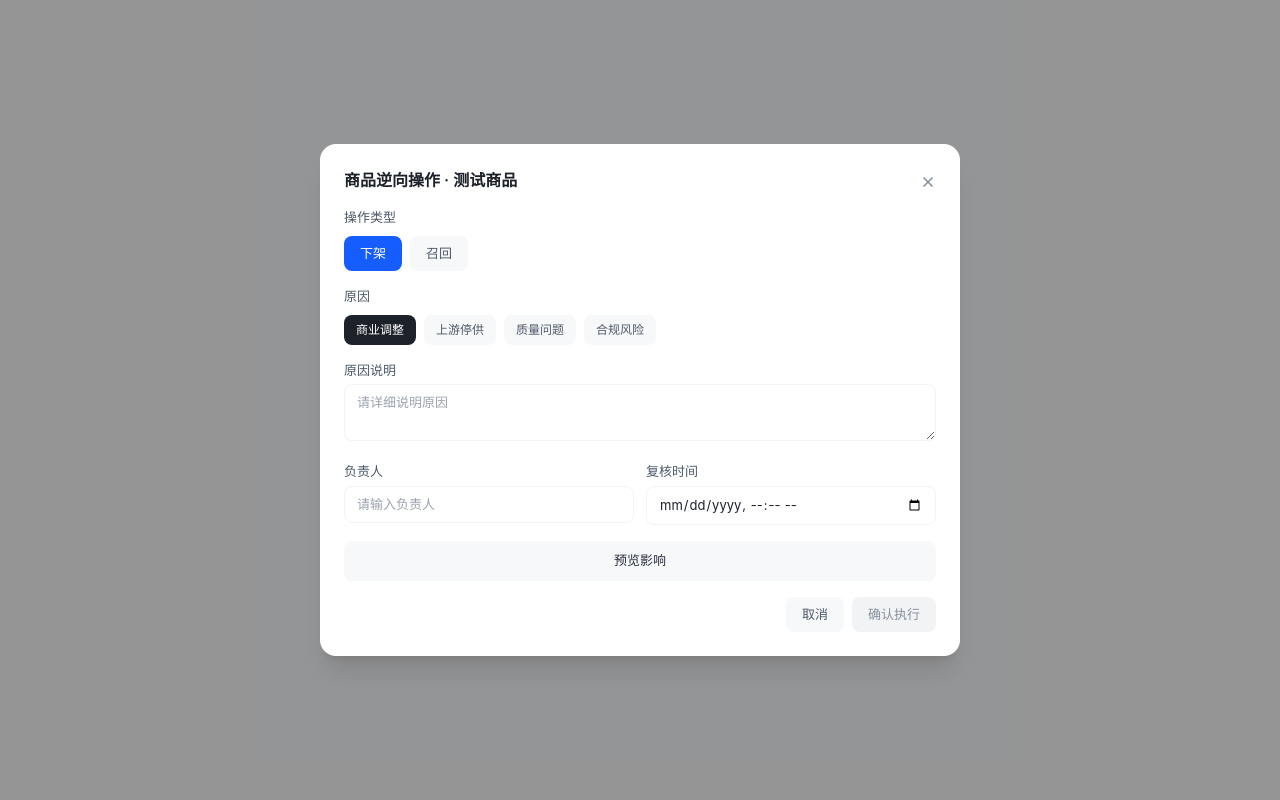
Test case: ProductReverseActionModal › blank owner blocks preview and shows validation message
The image size is (1280, 800).
Fill reason detail but leave owner blank
Type "Test reason" into the text box with test id "reason-detail-input" at (640, 412), box [344,384,936,441]
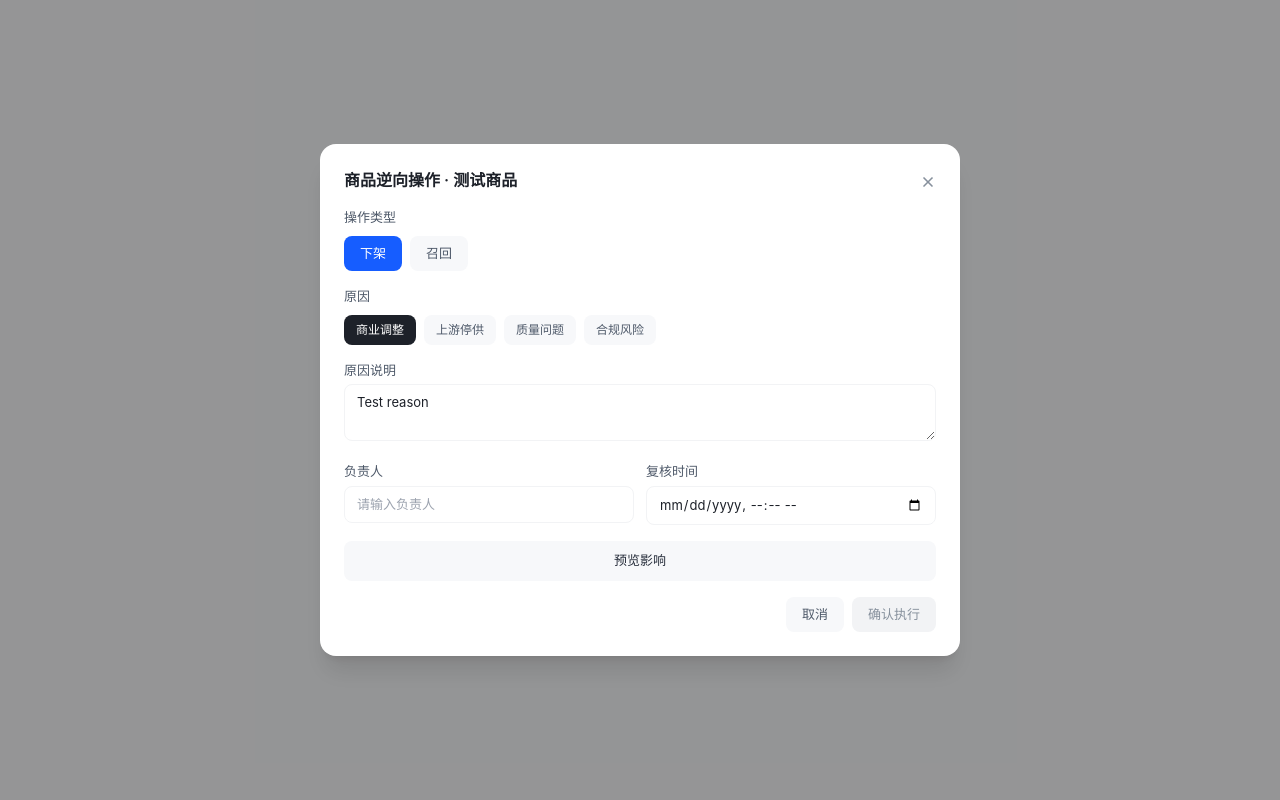
Type "2026-07-18T10:00" into the field with test id "review-at-input" at (791, 505), box [646,486,936,525]
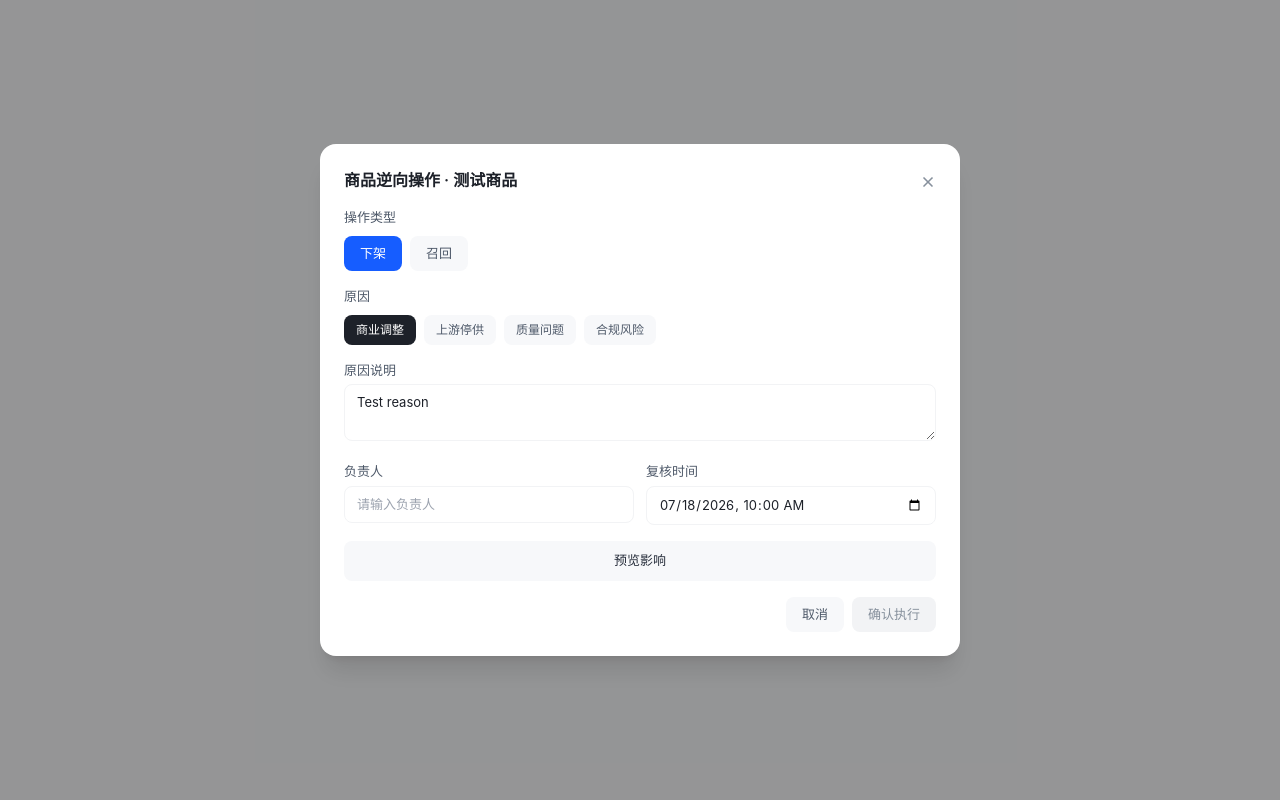
Click the button with test id "preview-btn" at (640, 561), box [344,541,936,580]
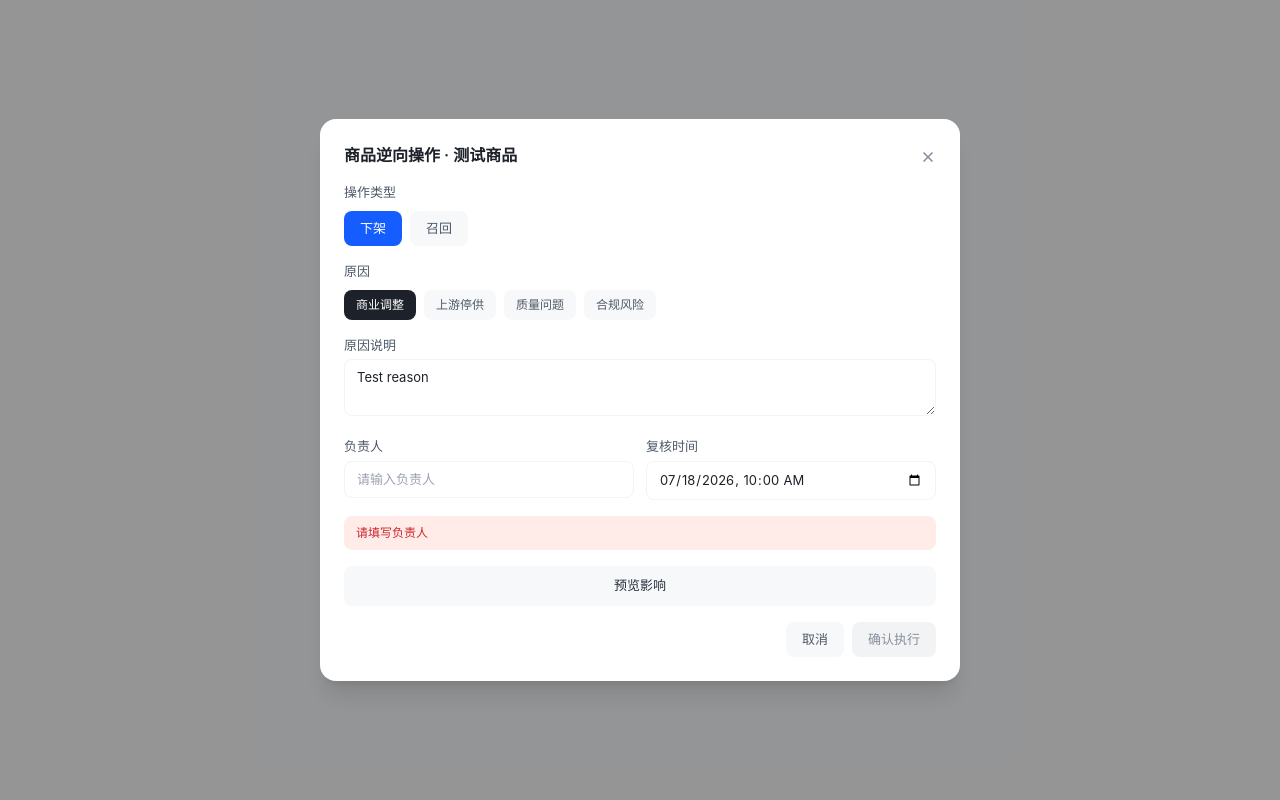
Expected: the text with test id "validation-error" shows "负责人", [344,516,936,550]
